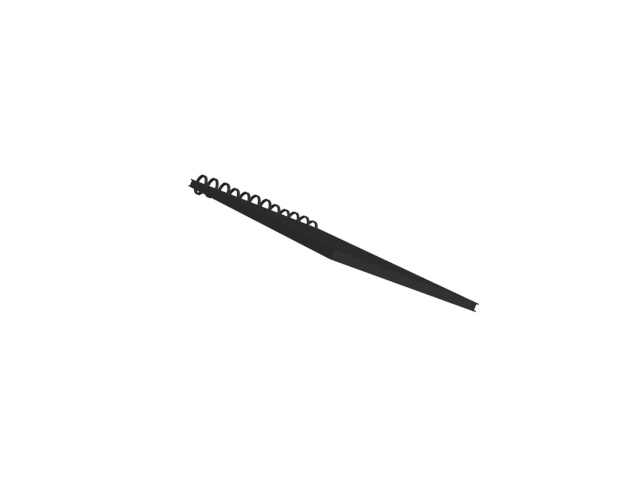paper_notebook: (185, 169, 480, 320)
